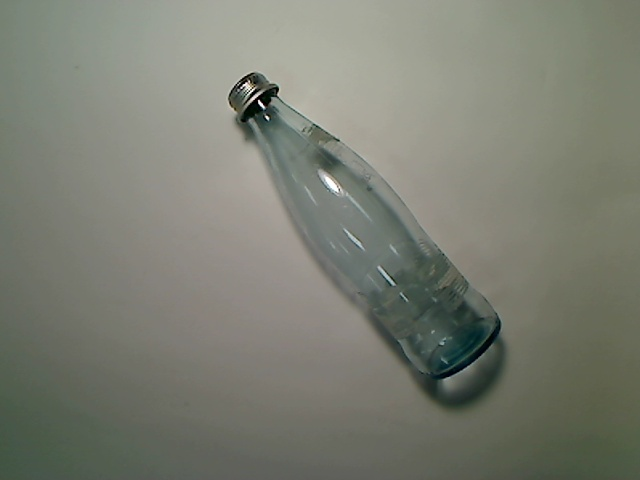bottle: (227, 71, 502, 381)
